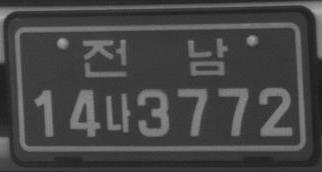1: (30, 87, 59, 138)
2: (257, 86, 294, 137)
3: (135, 87, 170, 138)
4: (68, 88, 101, 137)
7: (175, 85, 210, 138), (216, 85, 251, 137)
나: (104, 92, 132, 133)
전남_D: (80, 37, 229, 78)
